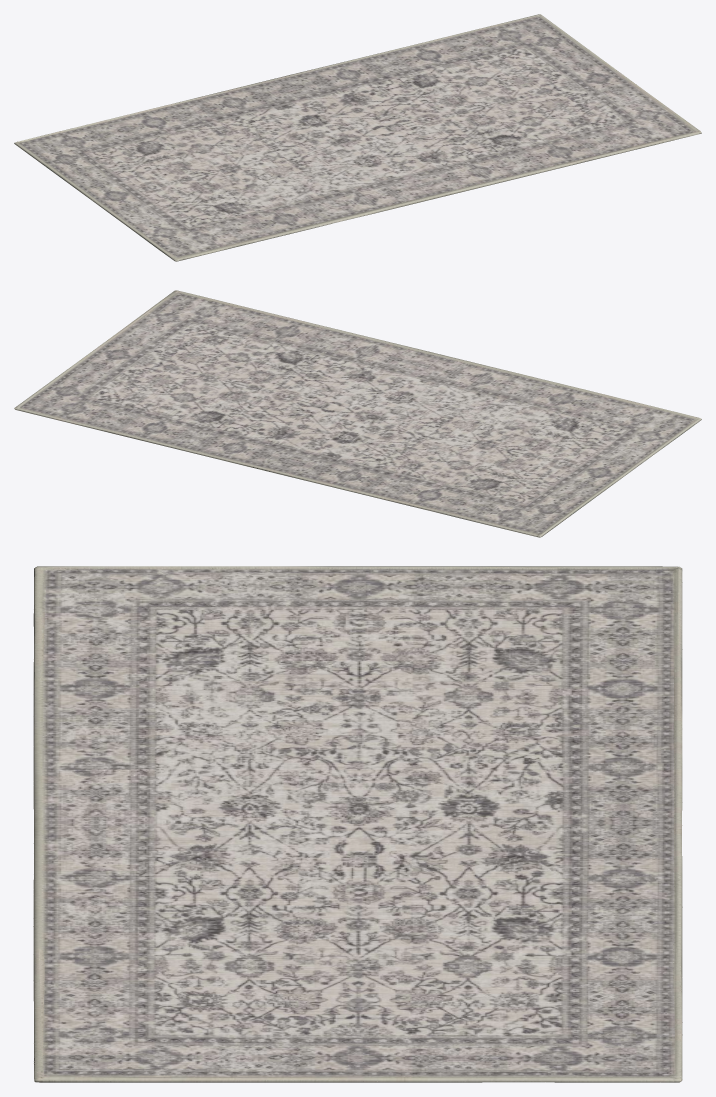
Rendered from lokaltag_dywan_z_krotkim_wosiem_60623232.glb.
The picture shows the model from 3 angles, top to bottom: view 1: azimuth 30°, elevation 25°; view 2: azimuth 150°, elevation 25°; view 3: azimuth 270°, elevation 25°; orthographic projection. The views are drawn at different scales.
Visible parts, largest first — view 1: lokaltag_dywan_z_krotkim_wosiem_60623232; view 2: lokaltag_dywan_z_krotkim_wosiem_60623232; view 3: lokaltag_dywan_z_krotkim_wosiem_60623232.
Boxes of the visible parts, x1=… form: lokaltag_dywan_z_krotkim_wosiem_60623232: x1=14, y1=14, x2=701, y2=261; lokaltag_dywan_z_krotkim_wosiem_60623232: x1=14, y1=290, x2=701, y2=537; lokaltag_dywan_z_krotkim_wosiem_60623232: x1=33, y1=566, x2=682, y2=1082.
Bounding box in the file's own units: 1.5 × 0.00541 × 0.8005.
1 material, 1 textured.
